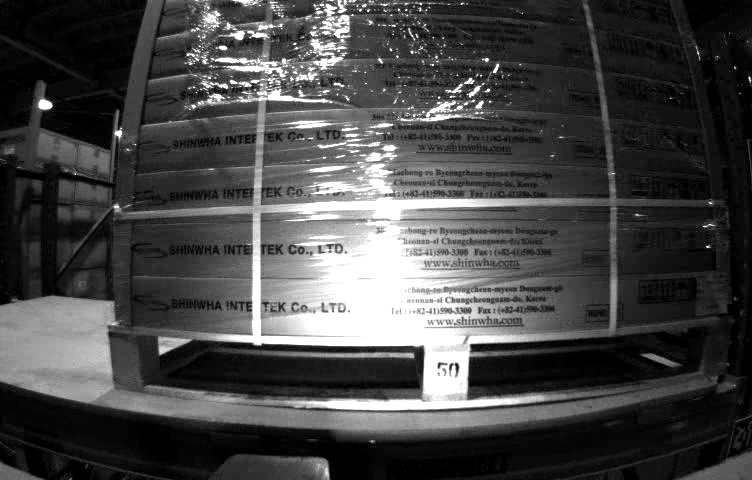True Barcode: (693, 269, 730, 318)
